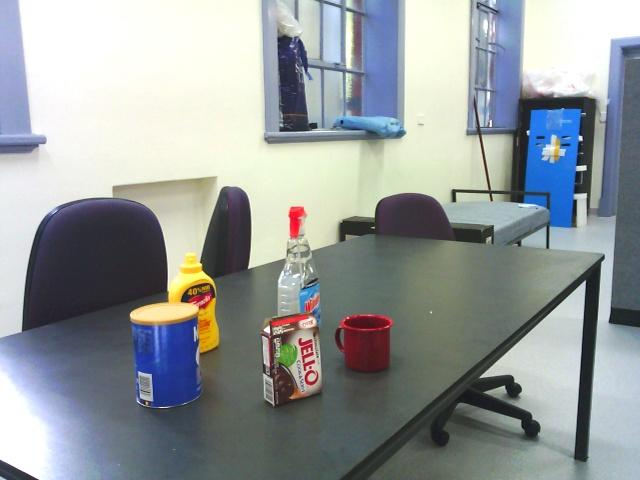002_master_chef_can: (122, 300, 207, 414)
006_mustard_bottle: (164, 249, 221, 355)
008_pudding_box: (258, 310, 324, 408)
025_mug: (334, 314, 395, 375)
